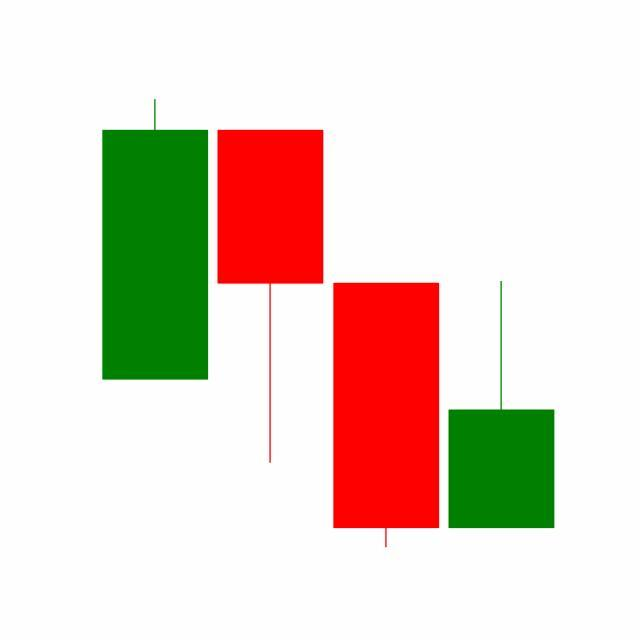Marubozu: (329, 280, 445, 551)
